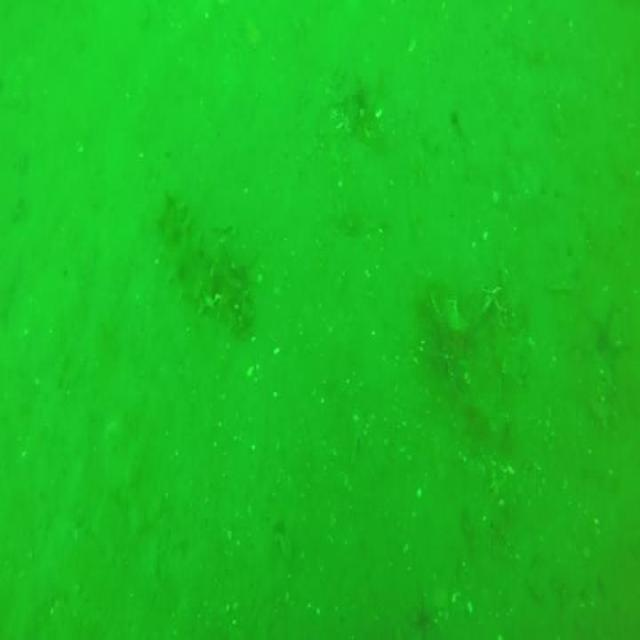holothurian: (160, 198, 249, 336)
